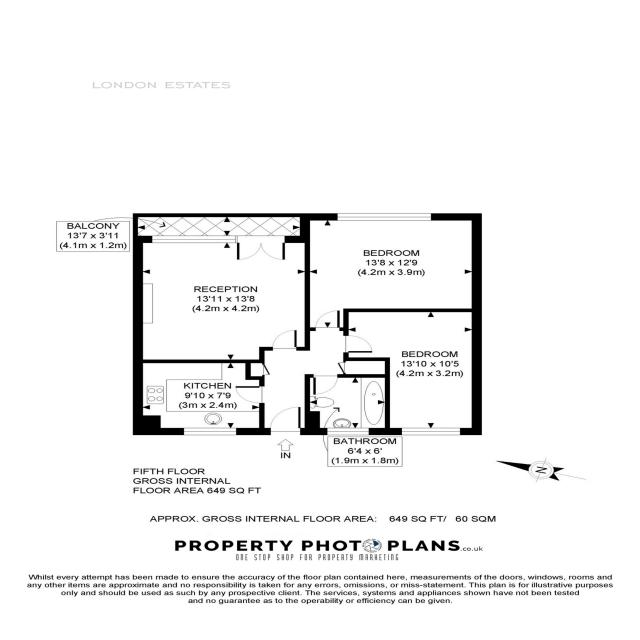DOOR: (269, 406, 302, 435), (234, 385, 265, 404), (271, 329, 297, 351), (312, 374, 338, 395), (315, 310, 341, 331), (343, 335, 373, 353)
DOUBLE DOOR: (236, 236, 287, 261)
ROOM: (133, 235, 310, 363), (299, 213, 482, 331), (343, 308, 482, 435), (133, 359, 265, 435)
WINDOW: (336, 213, 432, 221), (183, 427, 237, 436), (401, 427, 461, 435), (327, 428, 369, 435)
